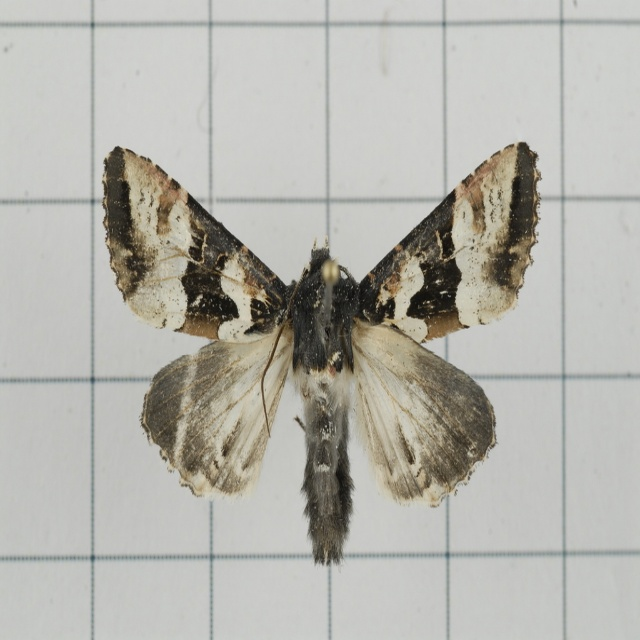Butterfly: (102, 144, 543, 560)
